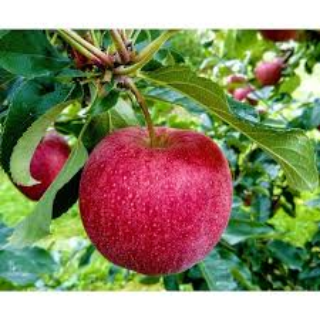tao: (78, 118, 235, 278)
